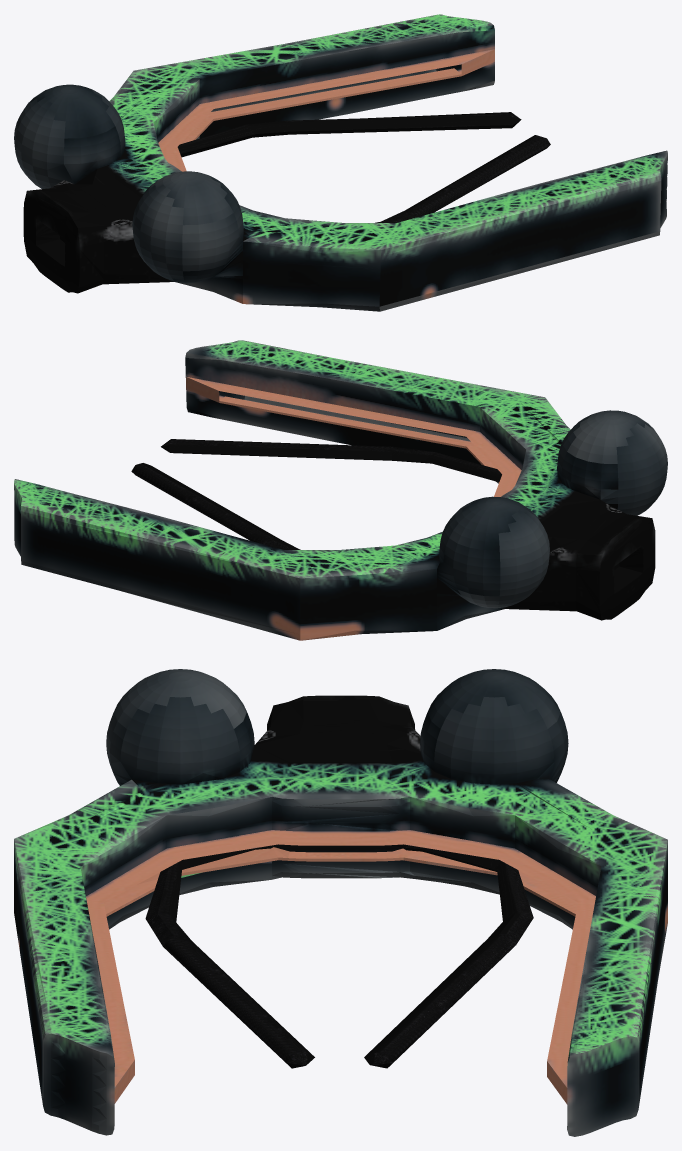
The model's file is AlienShipBig.fbx.
3 renders of one model, top to bottom at view 1: azimuth 30°, elevation 25°; view 2: azimuth 150°, elevation 25°; view 3: azimuth 270°, elevation 25°, orthographic. The views are drawn at different scales.
Parts seen in each view (by area): view 1: pSphere4, pCube1, pCube2; view 2: pSphere4, pCube2, pCube1; view 3: pSphere4, pCube1, pCube2.
Boxes of the visible parts, bbox=[...] form: pSphere4: bbox=[14, 14, 667, 311]; pCube1: bbox=[177, 112, 521, 157]; pCube2: bbox=[375, 135, 550, 222]; pSphere4: bbox=[14, 340, 667, 640]; pCube2: bbox=[161, 439, 501, 481]; pCube1: bbox=[131, 463, 300, 549]; pSphere4: bbox=[14, 669, 667, 1136]; pCube1: bbox=[364, 844, 533, 1068]; pCube2: bbox=[145, 844, 314, 1068].
Size of the model in its own units: 25.37 by 6.05 by 20.42.
